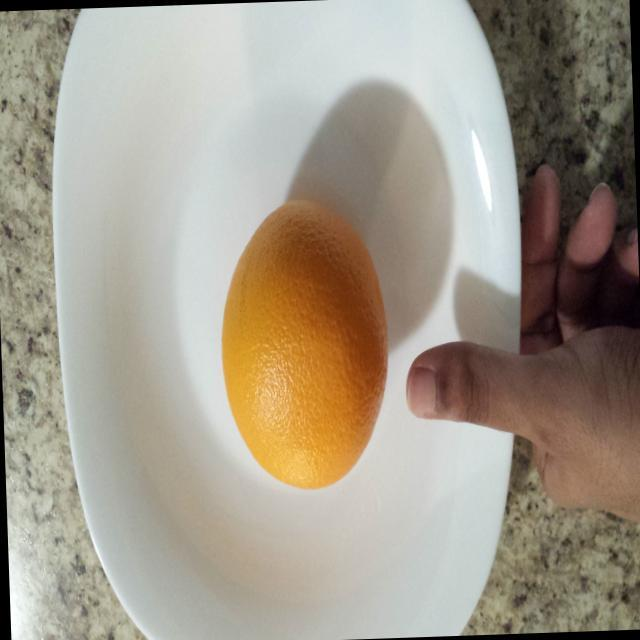Finger: (402, 322, 496, 442)
Orange: (202, 184, 396, 516)
